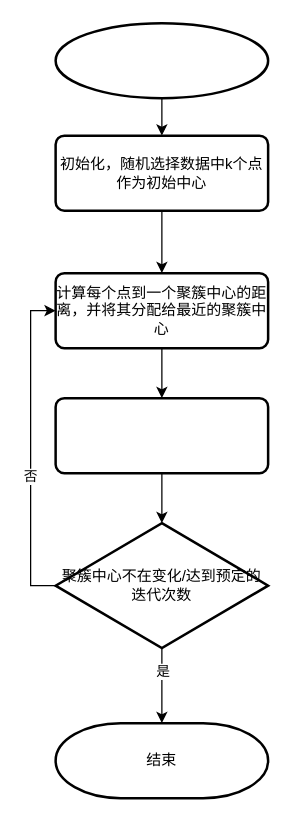
Image size: 291x820. Some labels were removed from this diagram. Here are the shapes that lost their labels. From the top down, the centre of each, then its label:
At (x=161, y=60): "开始".
At (x=161, y=435): "计算每个聚簇中所有数据点的平均值，将其作为聚簇中心".
